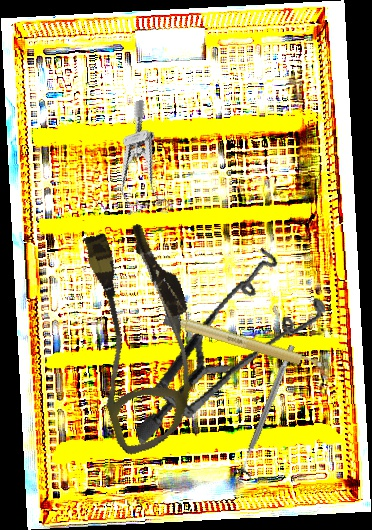Cannula: (57, 215, 224, 458)
Fixation Ring: (231, 341, 303, 481)
Scalpel Handle: (162, 312, 325, 373)
Speculum: (104, 238, 346, 446), (95, 99, 179, 225)
